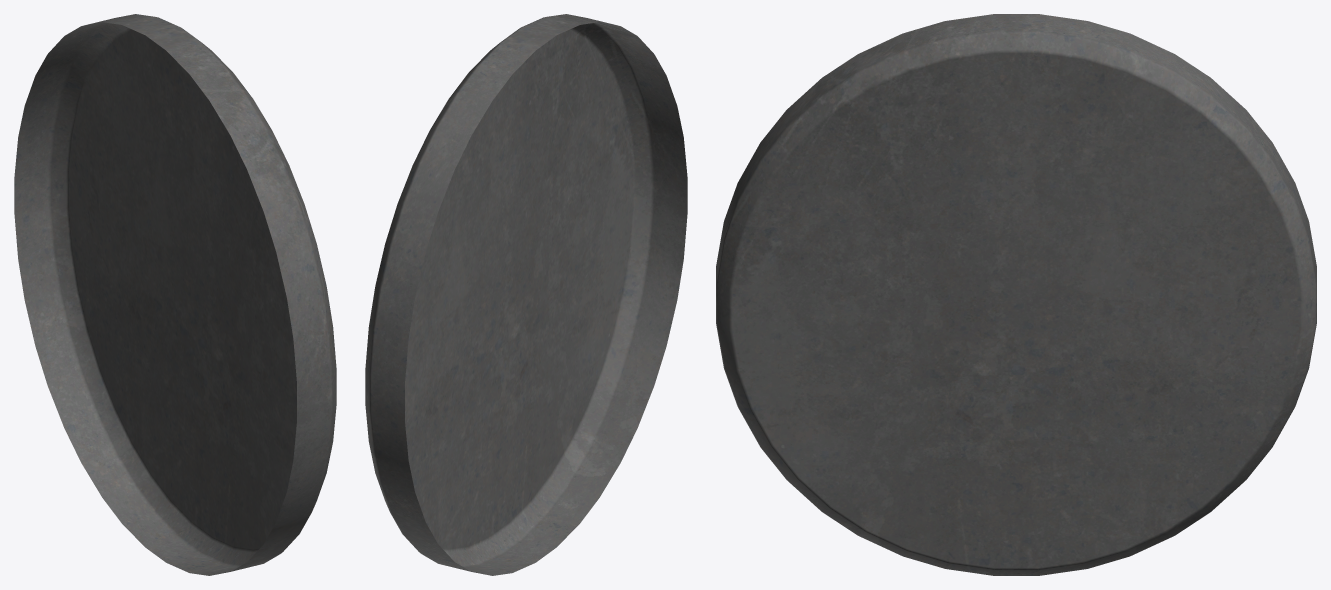
The model's file is cP_Pathway03_SteppingStoneRound02.dae.
The picture shows the model from 3 angles, left to right: view 1: azimuth 30°, elevation 25°; view 2: azimuth 150°, elevation 25°; view 3: azimuth 270°, elevation 25°; orthographic projection. The views are drawn at different scales.
Parts seen in each view (by area): view 1: cP_Pathway03_SteppingStoneRound02.001; view 2: cP_Pathway03_SteppingStoneRound02.001; view 3: cP_Pathway03_SteppingStoneRound02.001.
Part boxes in pixels (x1,y1,x2,y2): cP_Pathway03_SteppingStoneRound02.001: (14, 14, 336, 575); cP_Pathway03_SteppingStoneRound02.001: (365, 14, 687, 575); cP_Pathway03_SteppingStoneRound02.001: (716, 14, 1316, 575).
Bounding box in the file's own units: 0.0521 × 0.5442 × 0.5442.
